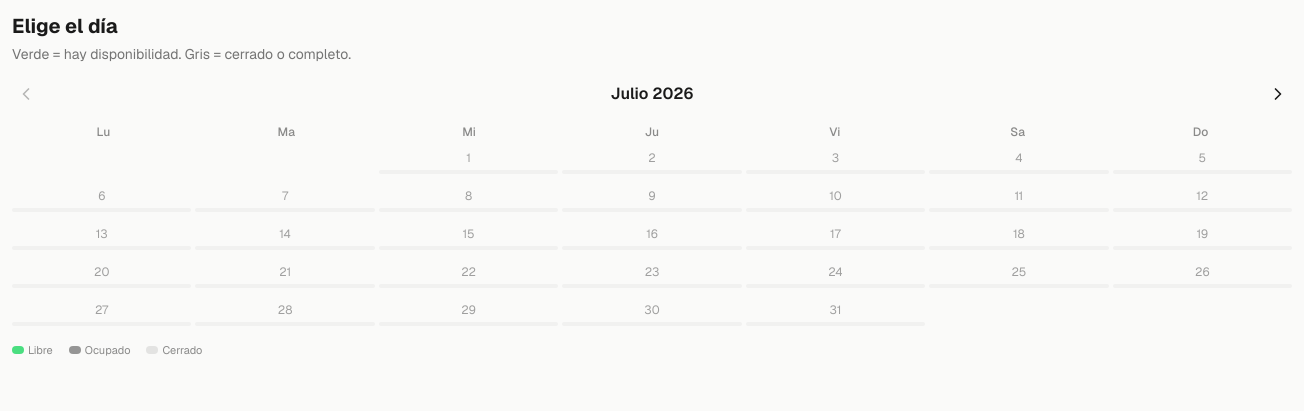
Test case: StepSelectDate — month navigation › enables the back button after navigating one month forward
Click the button named "next month" at (1278, 94), box x1=1264 y1=80 x2=1292 y2=108
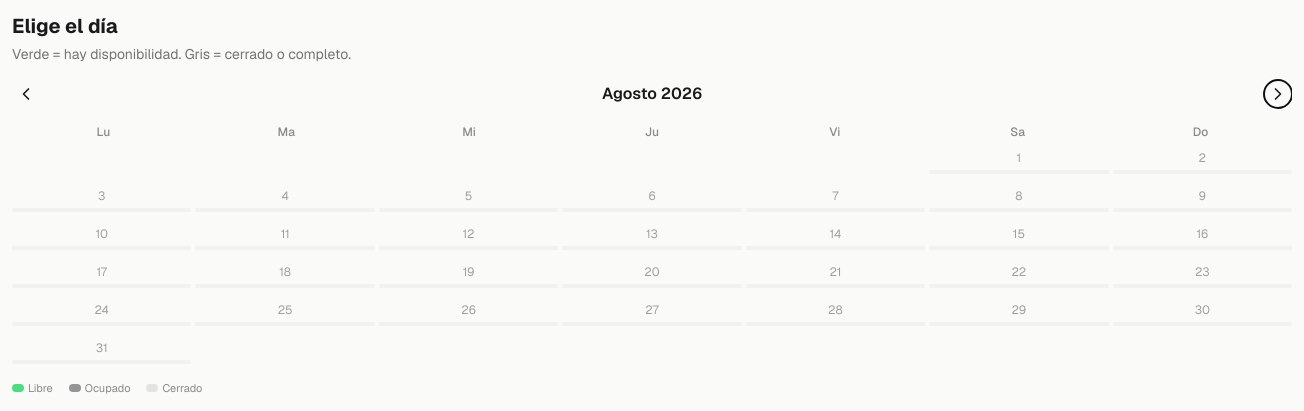
Expected: the button named "previous month" is enabled, x1=12 y1=80 x2=40 y2=108
